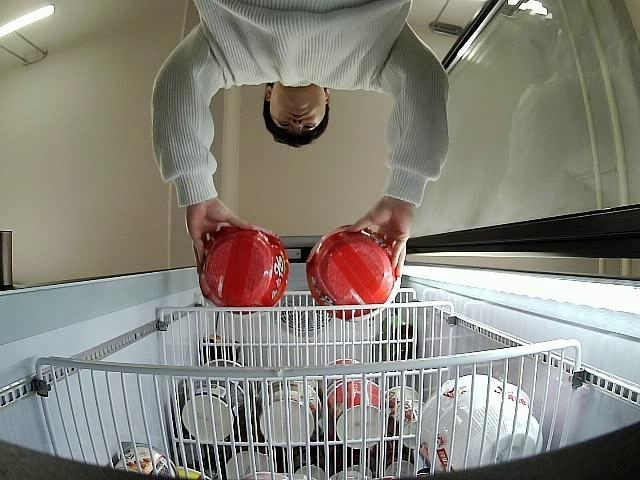10_wangTtukkeong: (196, 227, 290, 319), (308, 228, 398, 322)
